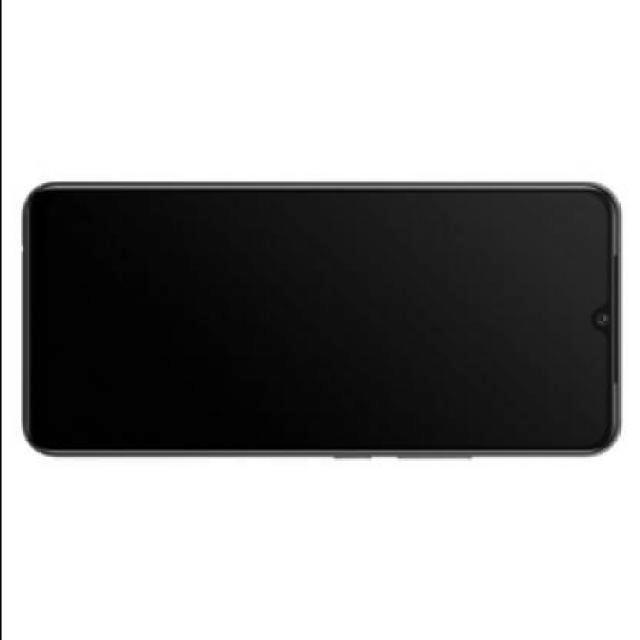fake: (20, 181, 622, 461)
